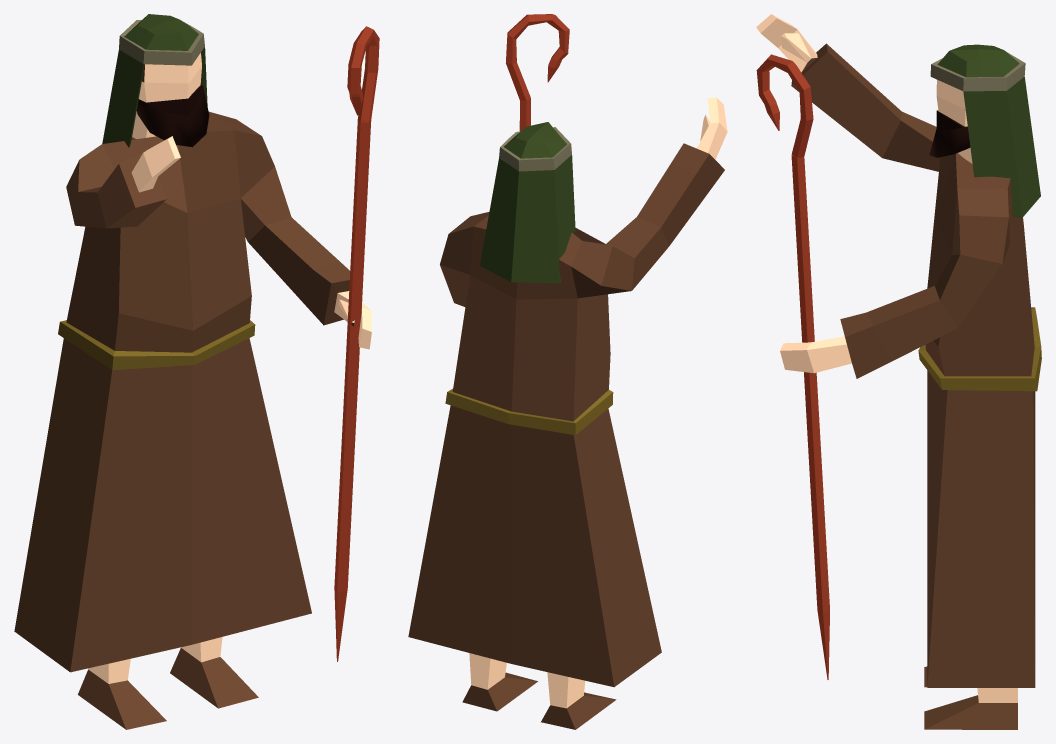
Rendered from prophet_2.fbx.
3 renders of one model, left to right at view 1: azimuth 30°, elevation 25°; view 2: azimuth 150°, elevation 25°; view 3: azimuth 270°, elevation 25°, orthographic. The views are drawn at different scales.
Visible parts, largest first — view 1: prophet; view 2: prophet; view 3: prophet.
Boxes of the visible parts, left/top/right/bottom form: prophet: left=14, top=14, right=379, bottom=729; prophet: left=408, top=14, right=727, bottom=729; prophet: left=756, top=14, right=1041, bottom=729.
Bounding box in the file's own units: 148 × 403 × 152.
